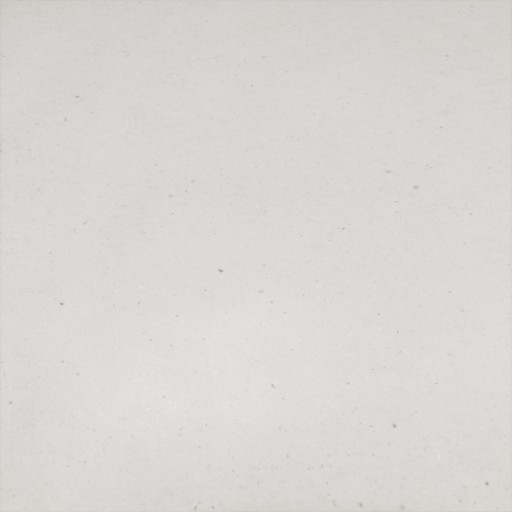lego: (243, 205, 268, 307)
